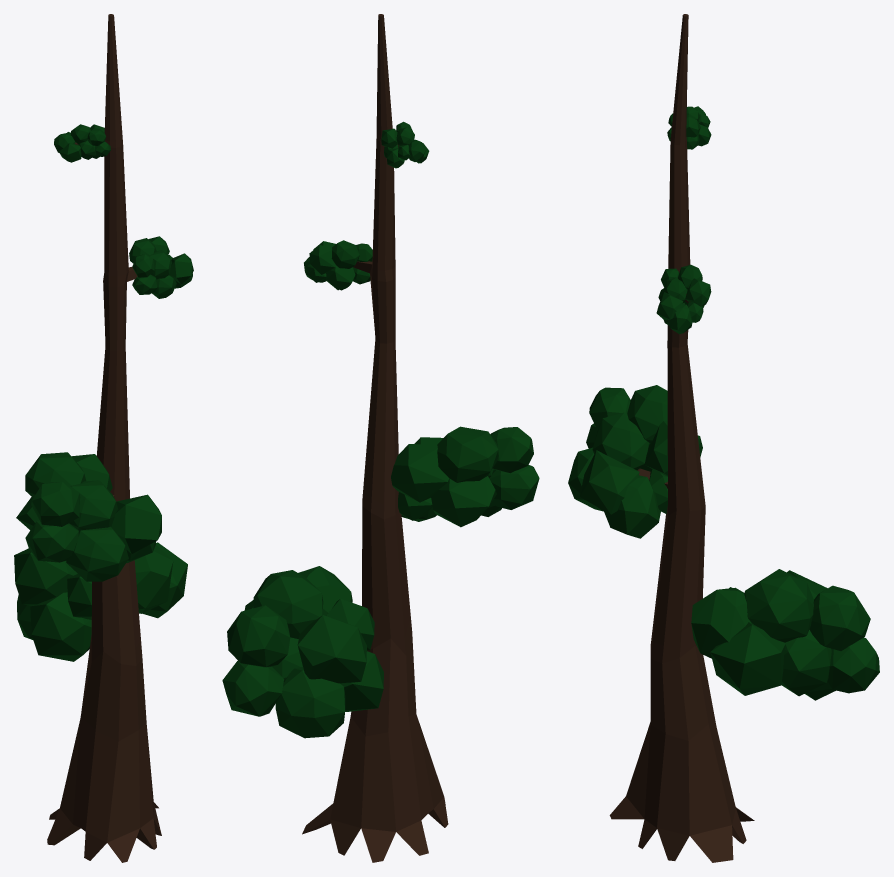
The model's file is pineTree1.fbx.
3 views of the same model, side by side, from view 1: azimuth 30°, elevation 25°; view 2: azimuth 150°, elevation 25°; view 3: azimuth 270°, elevation 25° (orthographic).
Parts seen in each view (by area): view 1: Cylinder, Icosphere.012, Icosphere.016, Icosphere.009, Icosphere.020, Icosphere.004, Icosphere.014, Icosphere.013, Icosphere.015, Icosphere.021, Icosphere.010, Icosphere.008 (+9 smaller); view 2: Cylinder, Icosphere.009, Icosphere.011, Icosphere.002, Icosphere.003, Icosphere.021, Icosphere.001, Icosphere.022, Icosphere.019, Icosphere.015, Icosphere.012, Icosphere.014 (+4 smaller); view 3: Cylinder, Icosphere.010, Icosphere.003, Icosphere.002, Icosphere.004, Icosphere, Icosphere.020, Icosphere.001, Icosphere.013, Icosphere.017, Icosphere.021, Icosphere.014 (+2 smaller).
Boxes of the visible parts, <box> form: Cylinder: <box>47,14,161,862</box>; Icosphere.012: <box>30,592,91,661</box>; Icosphere.016: <box>66,526,128,581</box>; Icosphere.009: <box>14,548,77,605</box>; Icosphere.020: <box>111,494,161,553</box>; Icosphere.004: <box>134,545,173,613</box>; Icosphere.014: <box>31,482,80,526</box>; Icosphere.013: <box>69,480,117,531</box>; Icosphere.015: <box>25,520,78,562</box>; Icosphere.021: <box>25,452,86,497</box>; Icosphere.010: <box>142,542,187,618</box>; Icosphere.008: <box>67,574,91,619</box>; Cylinder: <box>302,14,448,862</box>; Icosphere.009: <box>297,615,366,683</box>; Icosphere.011: <box>275,666,345,738</box>; Icosphere.002: <box>227,605,290,667</box>; Icosphere.003: <box>253,570,323,638</box>; Icosphere.021: <box>437,426,498,482</box>; Icosphere.001: <box>222,661,283,716</box>; Icosphere.022: <box>391,444,449,502</box>; Icosphere.019: <box>431,476,496,527</box>; Icosphere.015: <box>489,465,539,509</box>; Icosphere.012: <box>341,651,383,711</box>; Icosphere.014: <box>490,427,533,473</box>; Cylinder: <box>609,14,754,862</box>; Icosphere.010: <box>710,622,785,695</box>; Icosphere.003: <box>744,569,813,642</box>; Icosphere.002: <box>809,585,870,650</box>; Icosphere.004: <box>691,587,750,658</box>; Icosphere: <box>781,630,831,696</box>; Icosphere.020: <box>579,450,639,514</box>; Icosphere.001: <box>827,637,879,693</box>; Icosphere.013: <box>592,412,649,470</box>; Icosphere.017: <box>604,475,660,538</box>; Icosphere.021: <box>627,385,667,444</box>; Icosphere.014: <box>589,387,630,429</box>.
Bounding box in the file's own units: 56.64 × 198 × 67.91.
